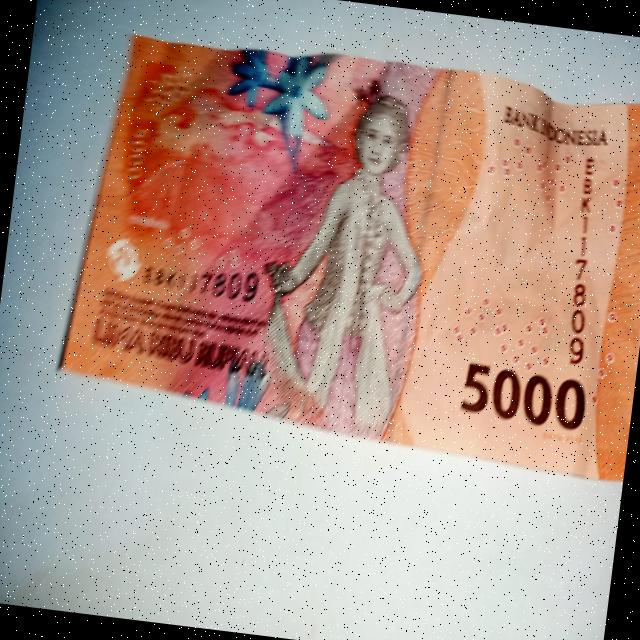5K: (42, 9, 640, 498)
